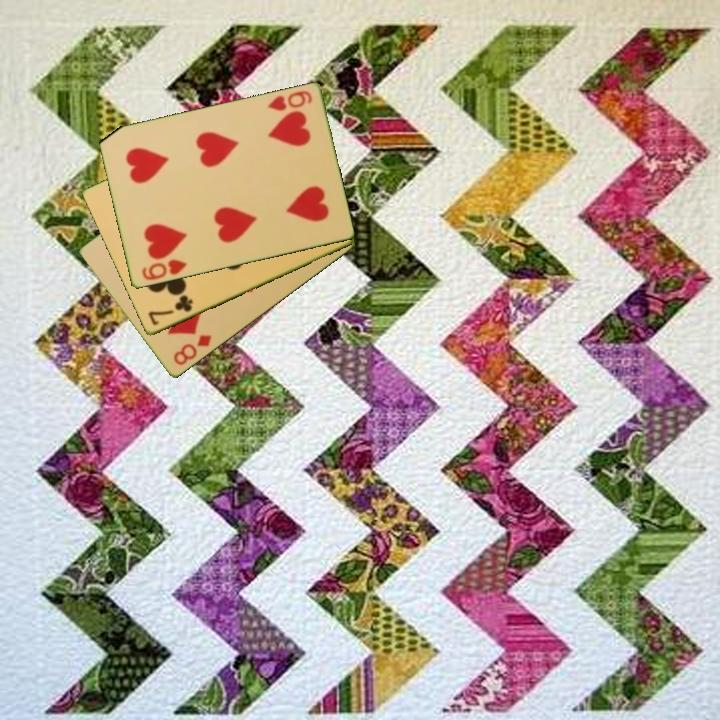6h: (138, 256, 190, 284), (264, 87, 315, 114)
7c: (145, 292, 196, 328)
8d: (170, 331, 215, 369)
